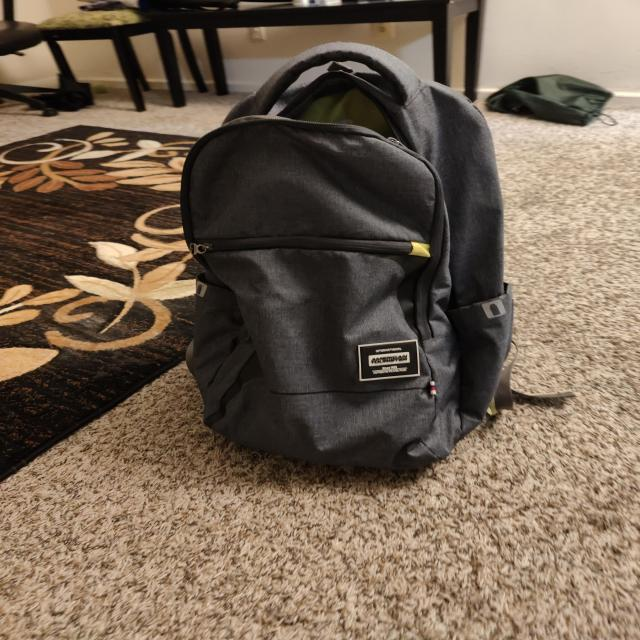bag: (183, 50, 484, 472)
